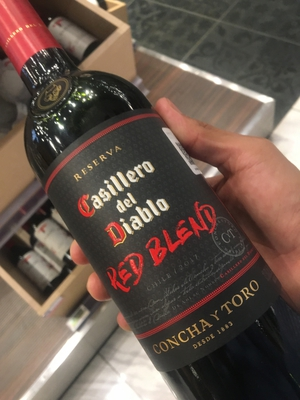casillero del diablo red blend: (18, 22, 285, 382)
